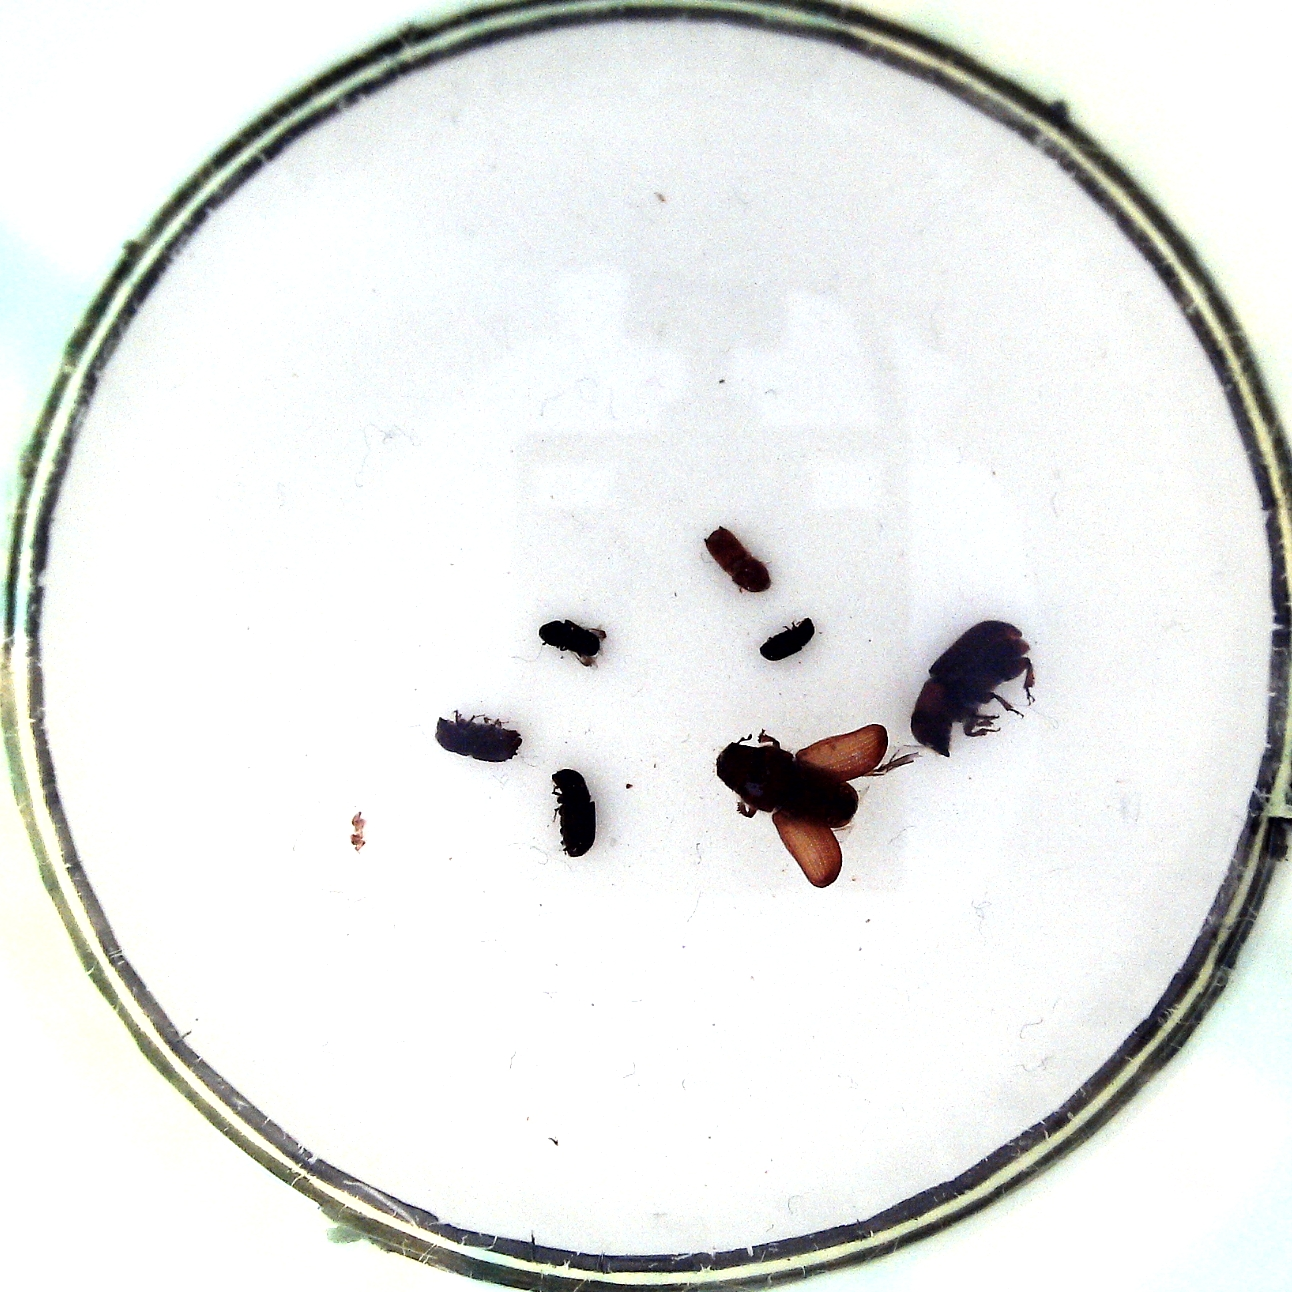Leconte: (716, 721, 906, 892), (907, 616, 1042, 765)
Linnaeus: (433, 711, 524, 774)
acuminatus: (700, 525, 771, 594)
armandi: (553, 760, 597, 860)
coleoptera: (541, 609, 611, 678), (756, 614, 821, 663)
